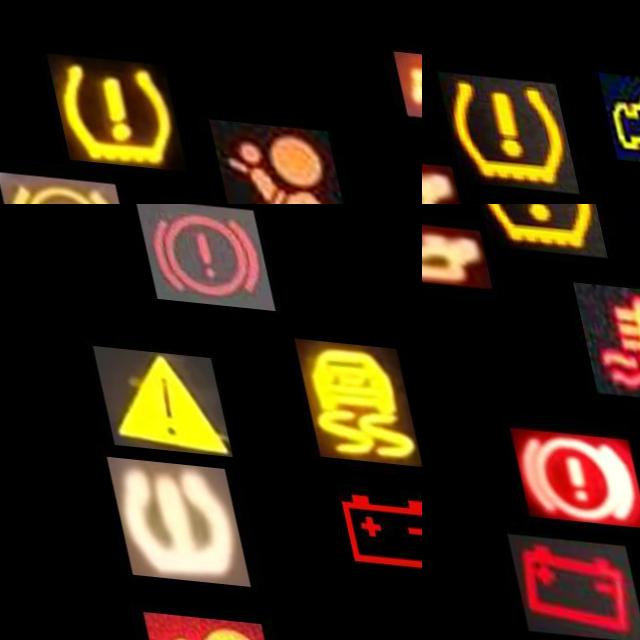Central Warning lamp: (85, 343, 220, 452)
Engine cooling system: (561, 277, 640, 397)
